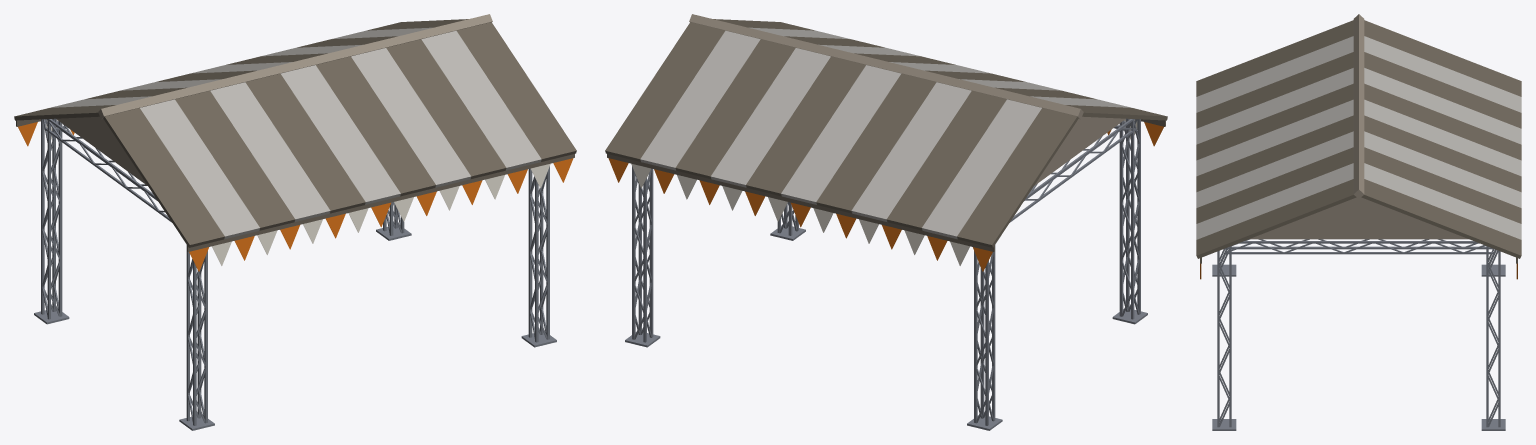
File: EventCanopy.fbx
3 renders of one model, left to right at view 1: azimuth 30°, elevation 25°; view 2: azimuth 150°, elevation 25°; view 3: azimuth 270°, elevation 25°, orthographic. The views are drawn at different scales.
Parts seen in each view (by area): view 1: EventCanopy_Festival_70685C, EventCanopy_Festival_B6B3AF, EventCanopy_Festival_7D828C, EventCanopy_Festival_988E81, EventCanopy_Festival_ED7E1D, EventCanopy_Festival_F2EDE2; view 2: EventCanopy_Festival_70685C, EventCanopy_Festival_B6B3AF, EventCanopy_Festival_7D828C, EventCanopy_Festival_988E81, EventCanopy_Festival_ED7E1D, EventCanopy_Festival_F2EDE2; view 3: EventCanopy_Festival_70685C, EventCanopy_Festival_B6B3AF, EventCanopy_Festival_7D828C, EventCanopy_Festival_988E81.
Boxes of the visible parts, <box> form: EventCanopy_Festival_70685C: <box>14,19,576,251</box>; EventCanopy_Festival_B6B3AF: <box>50,27,541,239</box>; EventCanopy_Festival_7D828C: <box>34,118,556,430</box>; EventCanopy_Festival_988E81: <box>56,14,492,185</box>; EventCanopy_Festival_ED7E1D: <box>18,122,573,271</box>; EventCanopy_Festival_F2EDE2: <box>40,119,550,265</box>; EventCanopy_Festival_70685C: <box>605,19,1167,251</box>; EventCanopy_Festival_B6B3AF: <box>640,27,1131,239</box>; EventCanopy_Festival_7D828C: <box>625,118,1147,430</box>; EventCanopy_Festival_988E81: <box>689,14,1125,185</box>; EventCanopy_Festival_ED7E1D: <box>608,122,1163,271</box>; EventCanopy_Festival_F2EDE2: <box>631,119,1141,265</box>; EventCanopy_Festival_70685C: <box>1196,20,1521,263</box>; EventCanopy_Festival_B6B3AF: <box>1196,36,1521,239</box>; EventCanopy_Festival_7D828C: <box>1212,239,1505,430</box>; EventCanopy_Festival_988E81: <box>1249,14,1468,239</box>.
Bounding box in the file's own units: 8.64 × 5.68 × 6.76.
